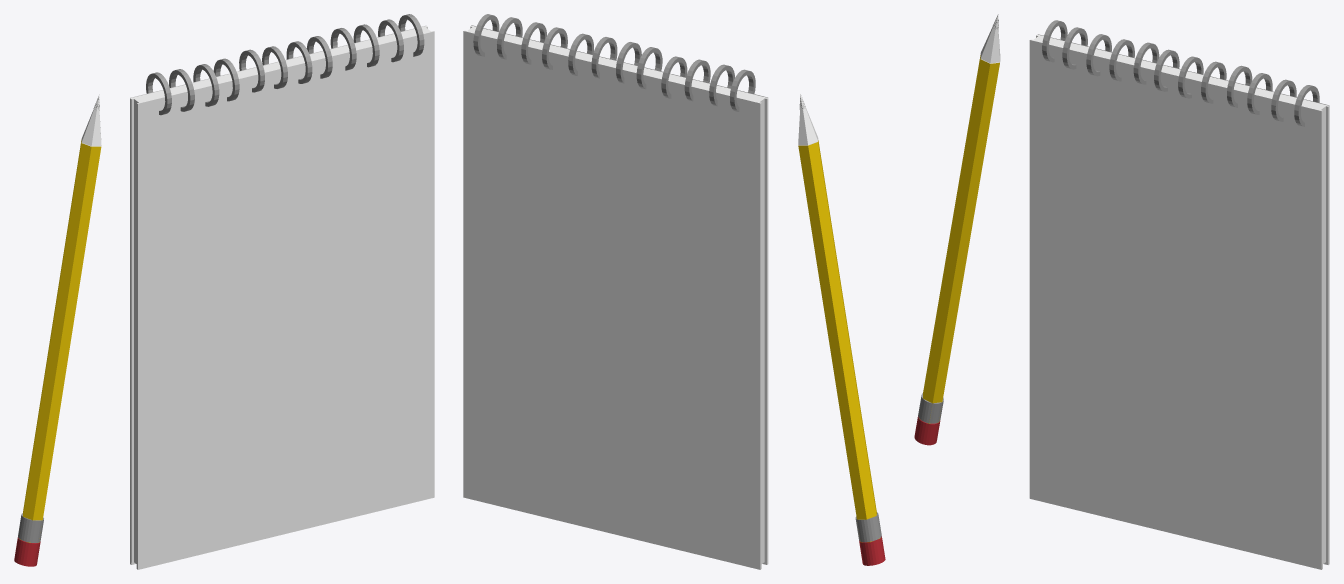
3 renders of one model, left to right at view 1: azimuth 30°, elevation 25°; view 2: azimuth 150°, elevation 25°; view 3: azimuth 330°, elevation 25°, orthographic.
Parts seen in each view (by area): view 1: sketchup notebook with pencil; view 2: sketchup notebook with pencil; view 3: sketchup notebook with pencil.
Boxes of the visible parts, x1=… form: sketchup notebook with pencil: x1=14, y1=14, x2=434, y2=569; sketchup notebook with pencil: x1=463, y1=14, x2=885, y2=569; sketchup notebook with pencil: x1=914, y1=14, x2=1329, y2=569.
Bounding box in the file's own units: 5.6 × 6.29 × 0.5688.
